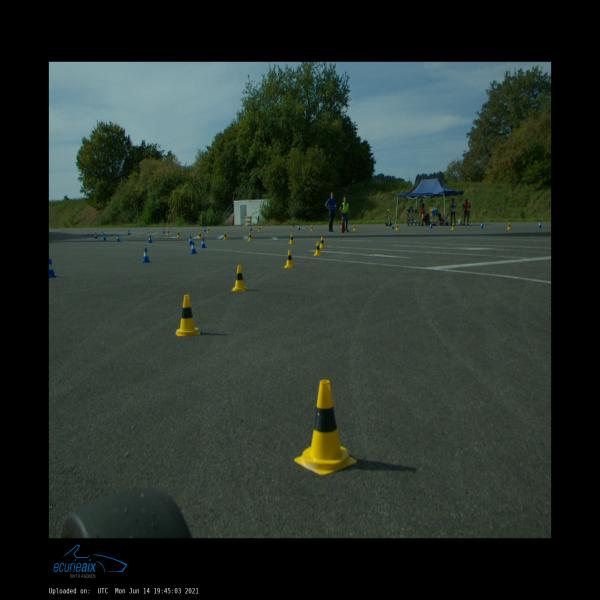blue_cone: (49, 258, 56, 278), (141, 248, 151, 262), (190, 242, 198, 254), (200, 238, 207, 248), (188, 236, 194, 245), (148, 235, 153, 243), (116, 234, 120, 242), (102, 234, 106, 241), (538, 222, 542, 228), (94, 232, 98, 238), (480, 222, 483, 228), (162, 228, 165, 233), (101, 232, 104, 237), (204, 226, 206, 232), (298, 224, 300, 230), (391, 224, 394, 228), (430, 223, 432, 229), (128, 230, 130, 235), (250, 225, 252, 230)
yellow_cone: (295, 380, 357, 475), (176, 294, 200, 337), (232, 265, 248, 292), (284, 250, 296, 268), (314, 242, 322, 256), (320, 237, 326, 248), (288, 233, 294, 244), (248, 232, 252, 242), (176, 230, 180, 238), (507, 222, 511, 230), (224, 232, 228, 239), (198, 232, 202, 239), (166, 229, 170, 236), (451, 223, 455, 230), (258, 226, 261, 232), (396, 224, 399, 230), (311, 226, 314, 231), (207, 228, 210, 233), (354, 224, 356, 230)
